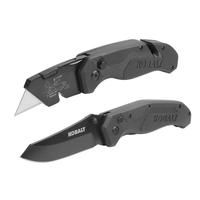knife: (10, 26, 183, 124), (11, 101, 194, 173)
